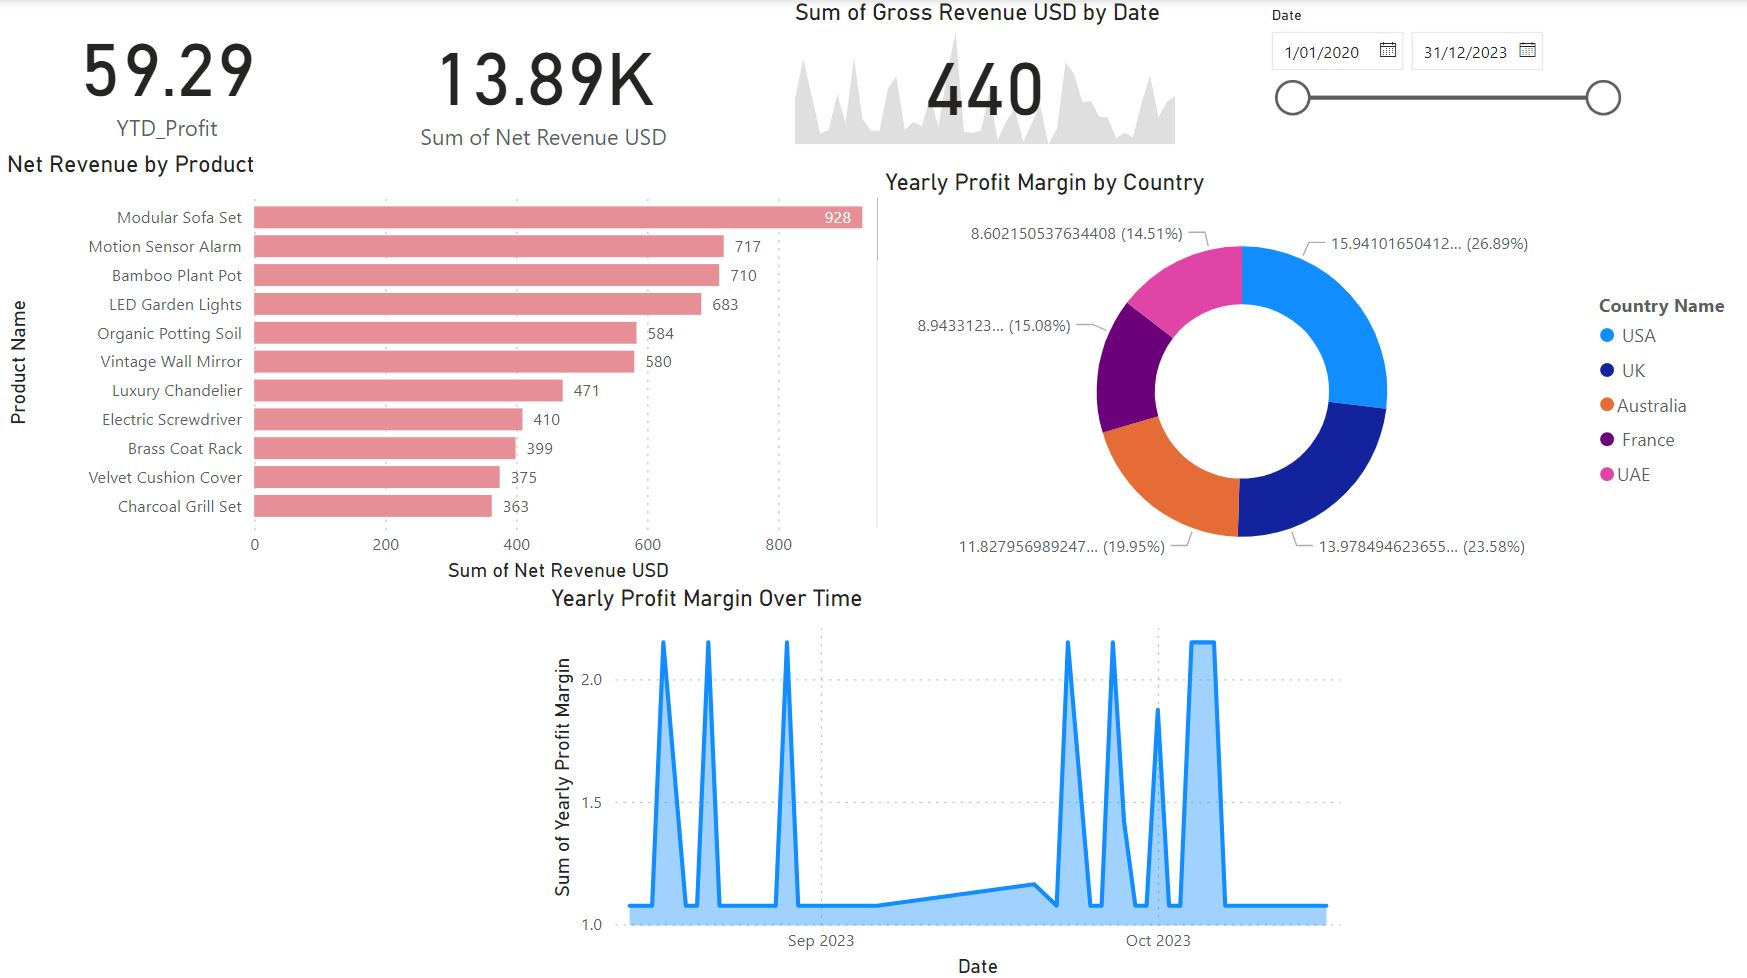

What the dashboard file says about the page in this screenshot:
{"tool":"powerbi","page":{"name":"Profit Overview","canvas":[1280,720],"ordinal":1},"visuals":[{"type":"clusteredBarChart","title":"Net Revenue by Product","fields":{"Category":["Sales in USD.Product Name"],"Y":["Sum(Sales in USD.Net Revenue USD)"]},"box":[0,111.2,652.3,318.8],"z":0},{"type":"donutChart","title":"Yearly Profit Margin by Country","fields":{"Category":["Sales in USD.Country Name"],"Y":["Sum(Sales in USD.Yearly Profit Margin)"]},"box":[640.8,124.2,639.2,305.7],"z":1000},{"type":"areaChart","title":"Yearly Profit Margin Over Time","fields":{"Y":["Sum(Sales in USD.Yearly Profit Margin)"],"Category":["CalendarTable.Date"]},"box":[397.2,428.3,599.9,291],"z":2000},{"type":"card","fields":{"Values":["Sales in USD.YTD_Profit"]},"box":[0,0,243.6,111.2],"z":3000},{"type":"card","fields":{"Values":["Sum(Sales in USD.Net Revenue USD)"]},"box":[243.6,0,305.7,124.2],"z":4000},{"type":"kpi","fields":{"Indicator":["Sum(Sales in USD.Gross Revenue USD)"],"TrendLine":["CalendarTable.Date"]},"box":[575.4,0,287.7,111.2],"z":4001},{"type":"slicer","fields":{"Values":["CalendarTable.Date"]},"box":[915.5,0,276.3,111.2],"z":4002}]}

Visuals, with their boxes in screenshot pixels (x1, y1, x2, y2), scaled from the page's 1280x720 canvas onto the 1747x978 screenshot:
"Net Revenue by Product" clusteredBarChart: bbox(0, 151, 890, 584)
"Yearly Profit Margin by Country" donutChart: bbox(875, 169, 1746, 584)
"Yearly Profit Margin Over Time" areaChart: bbox(542, 582, 1361, 977)
card - Sales in USD.YTD_Profit: bbox(0, 0, 332, 151)
card - Sum(Sales in USD.Net Revenue USD): bbox(332, 0, 750, 169)
kpi - Sum(Sales in USD.Gross Revenue USD) x CalendarTable.Date: bbox(785, 0, 1178, 151)
slicer - CalendarTable.Date: bbox(1250, 0, 1627, 151)
